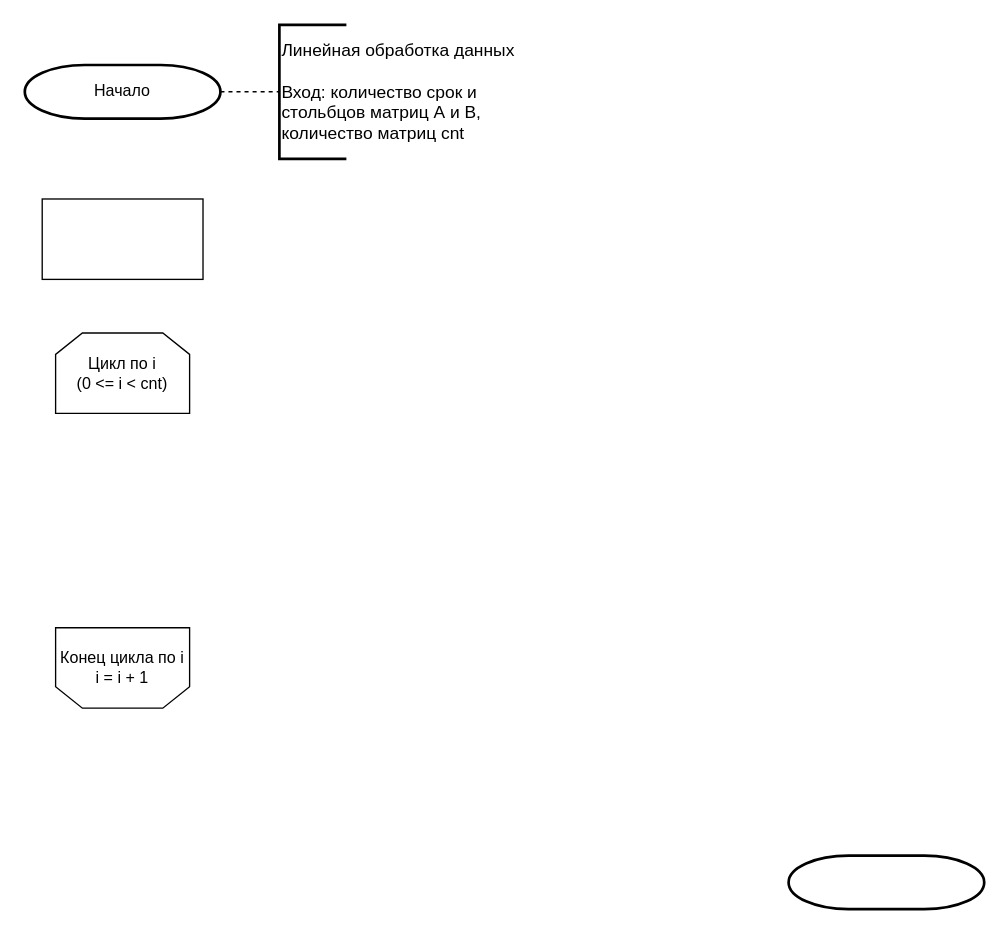
The diagram is 1008 pixels wide and 933 high, and some of its shapes have lost their labels. The centre of each missing label's shape, as x and y in pixels:
Конец: pixel 886 882
создать очереди этапов обработки qA1, qA2, qA3, qB1, qB2, qB3, q_res: pixel 122 238
